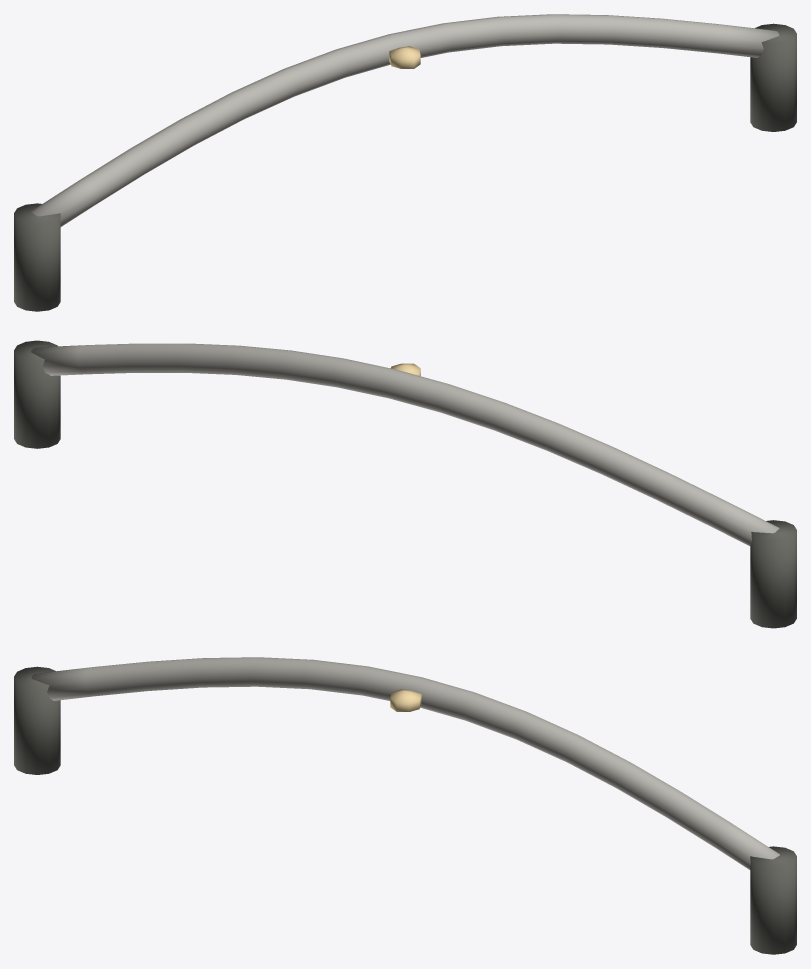
Rendered from marker-cord-02.glb.
3 views of the same model, one above another, from view 1: azimuth 30°, elevation 25°; view 2: azimuth 150°, elevation 25°; view 3: azimuth 330°, elevation 25° (orthographic).
Parts seen in each view (by area): view 1: default; view 2: default; view 3: default.
Part boxes in pixels (box(x1,y1,x2,y2)): default: box(14, 14, 796, 311); default: box(14, 340, 796, 628); default: box(14, 657, 796, 954).
Bounding box in the file's own units: 2.11 × 0.435 × 0.15.
